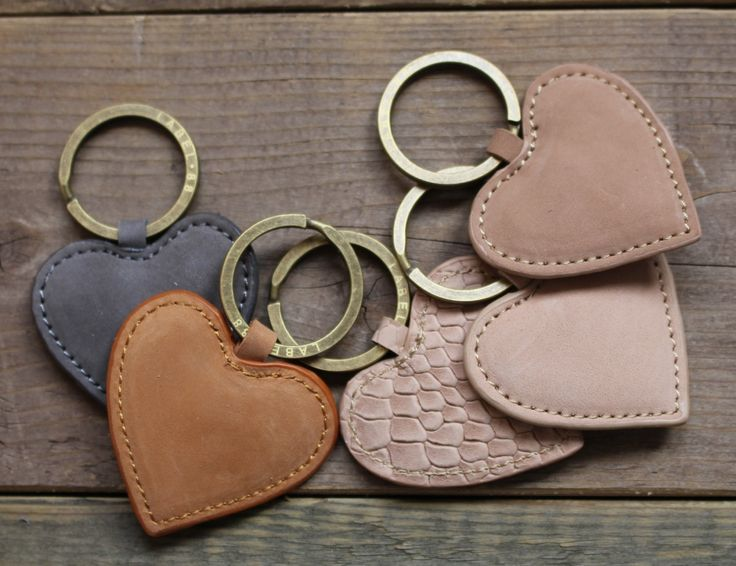cuero: (29, 63, 704, 537)
